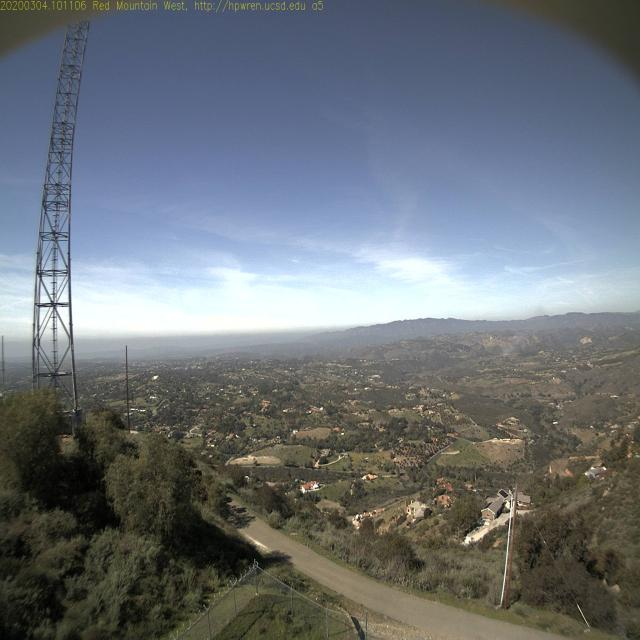smoke: (500, 319, 532, 365)
